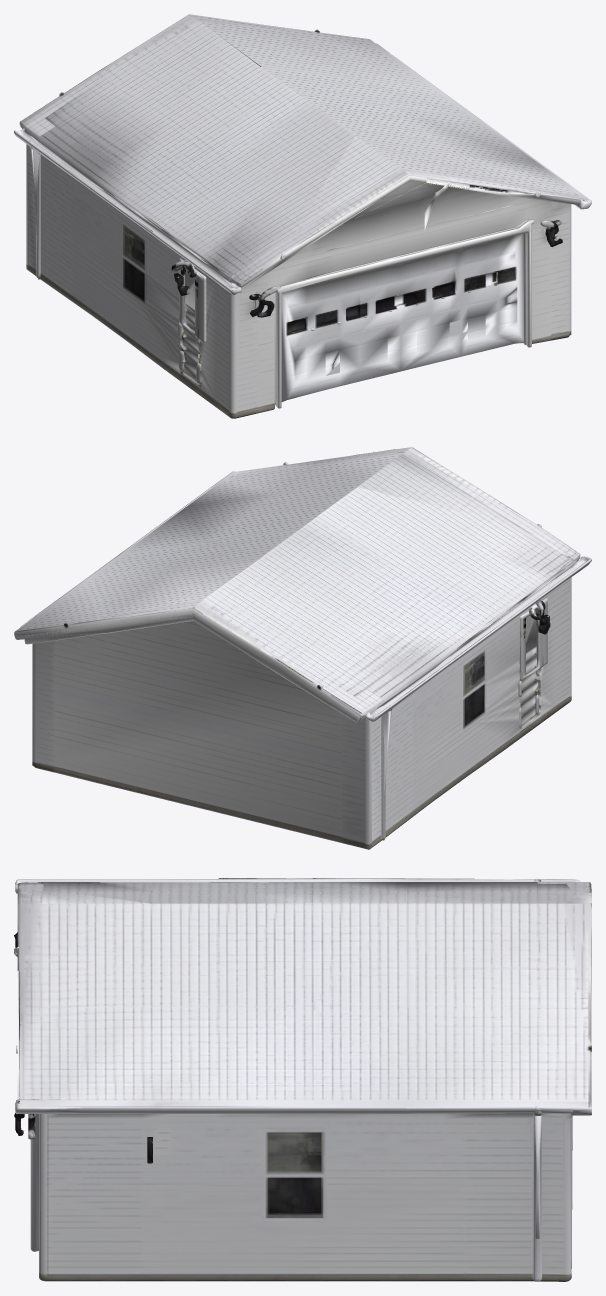
The model's file is White_Garage_0621060219_texture.glb.
The picture shows the model from 3 angles, top to bottom: view 1: azimuth 30°, elevation 25°; view 2: azimuth 150°, elevation 25°; view 3: azimuth 270°, elevation 25°; orthographic projection. The views are drawn at different scales.
Visible parts, largest first — view 1: Mesh_0.002; view 2: Mesh_0.002; view 3: Mesh_0.002.
Boxes of the visible parts, left/top/right/bottom form: Mesh_0.002: left=14, top=14, right=591, bottom=418; Mesh_0.002: left=14, top=447, right=591, bottom=849; Mesh_0.002: left=14, top=878, right=591, bottom=1281.
Bounding box in the file's own units: 9.11 × 4.88 × 9.41.
1 material, 1 textured.
